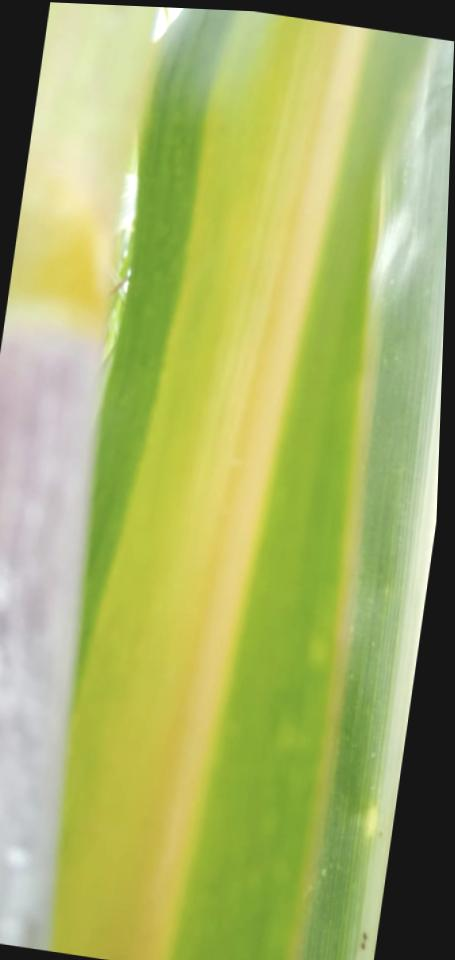Yellow: (49, 10, 372, 960), (279, 178, 388, 960)
